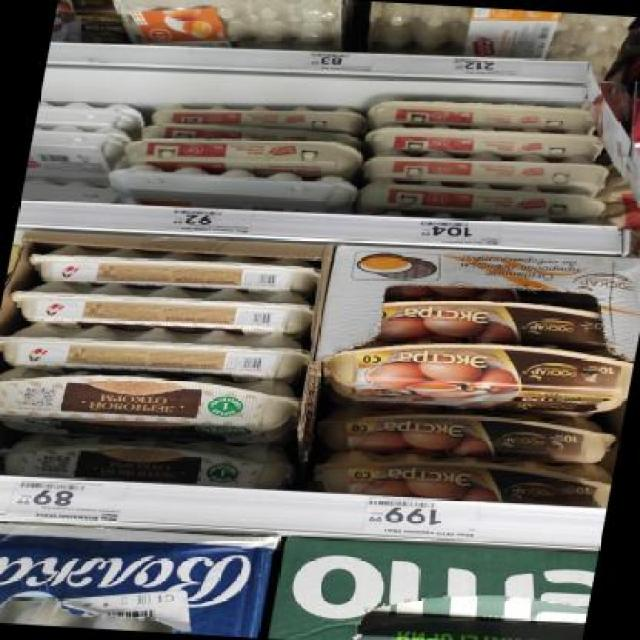Egg: (320, 332, 635, 417), (0, 363, 302, 448), (312, 402, 618, 466), (308, 448, 614, 509), (0, 427, 295, 490), (379, 294, 616, 349), (356, 176, 607, 222), (360, 146, 611, 192), (119, 132, 364, 179), (357, 94, 606, 138), (358, 120, 608, 163), (150, 96, 362, 136)
